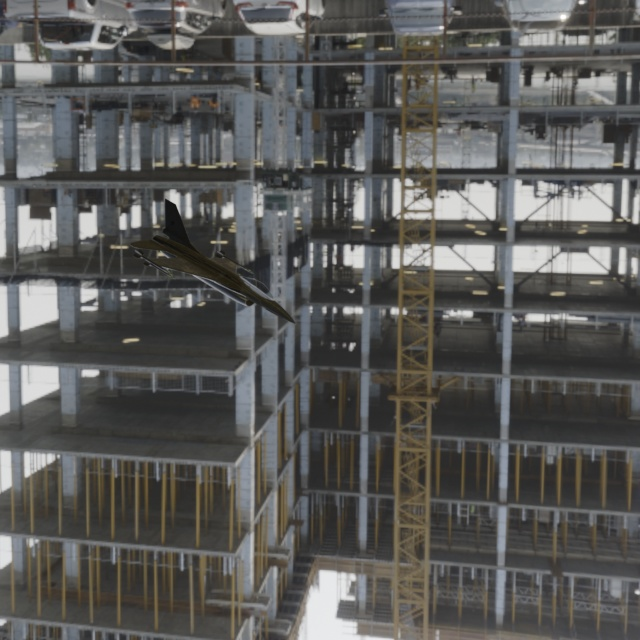model: (105, 195, 355, 342)
